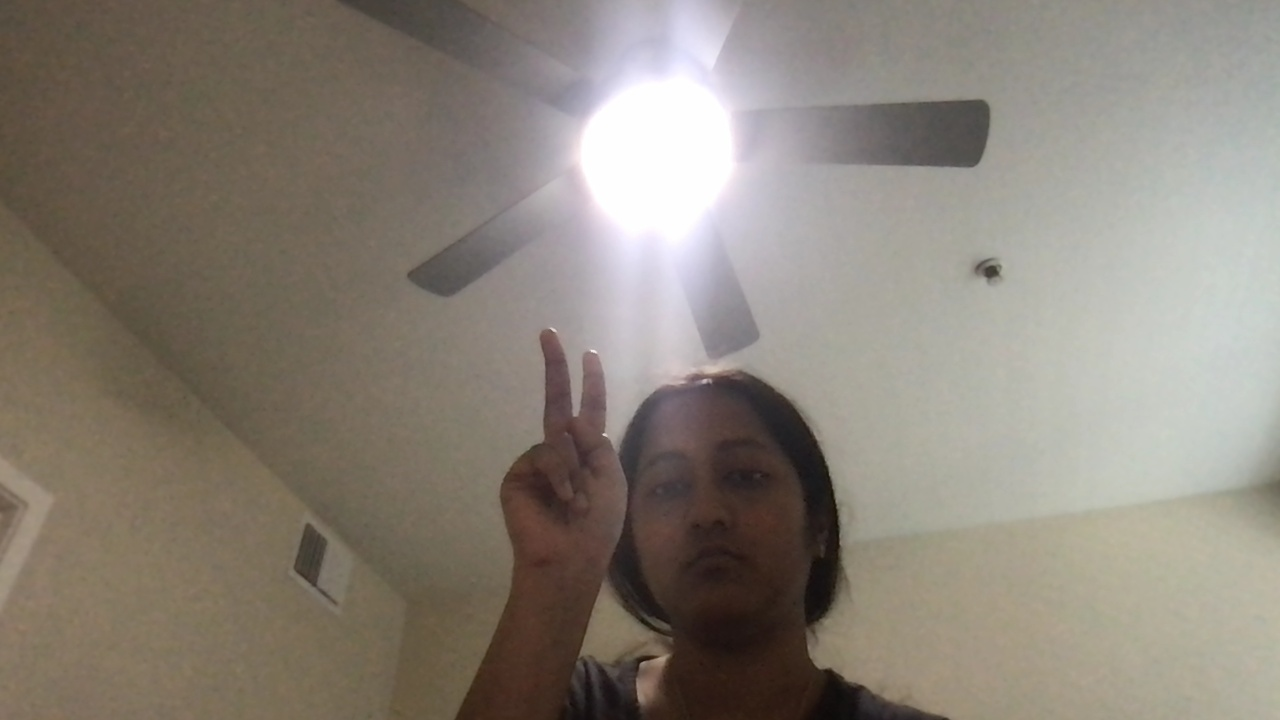k: (514, 322, 648, 585)
